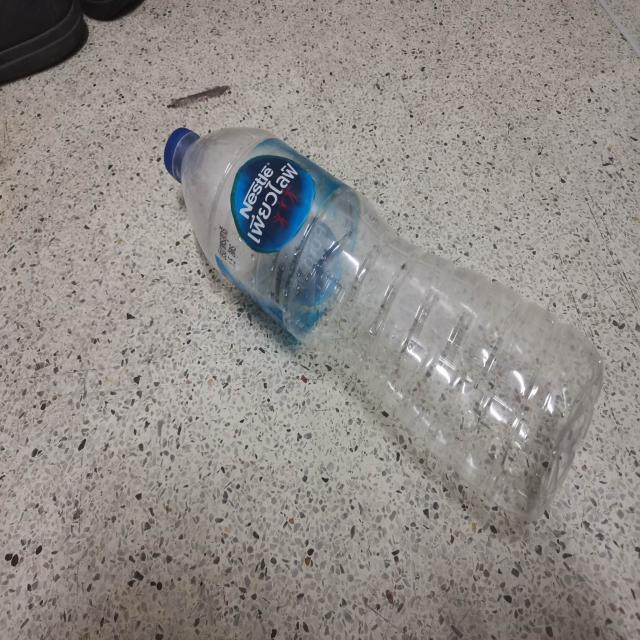plastic_bottle: (164, 128, 603, 520)
